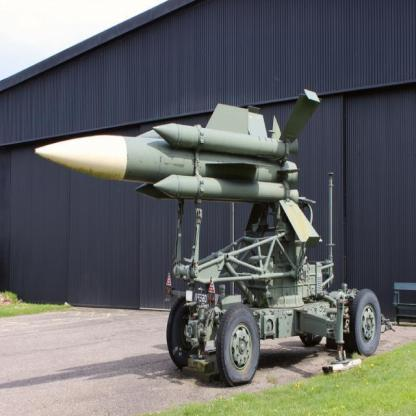MIL_TBM: (154, 122, 284, 158), (150, 174, 288, 202)
